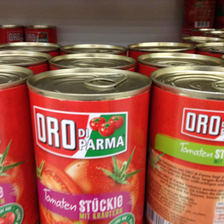tomato_sauce: (24, 67, 152, 223), (147, 66, 224, 223)
